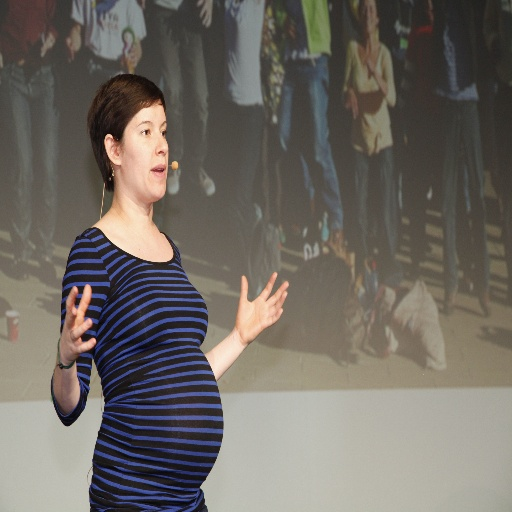hand: (233, 269, 289, 344), (58, 279, 96, 361), (63, 21, 82, 63), (127, 31, 143, 70), (195, 0, 213, 29), (344, 90, 360, 121), (40, 29, 53, 58), (363, 51, 376, 76)
